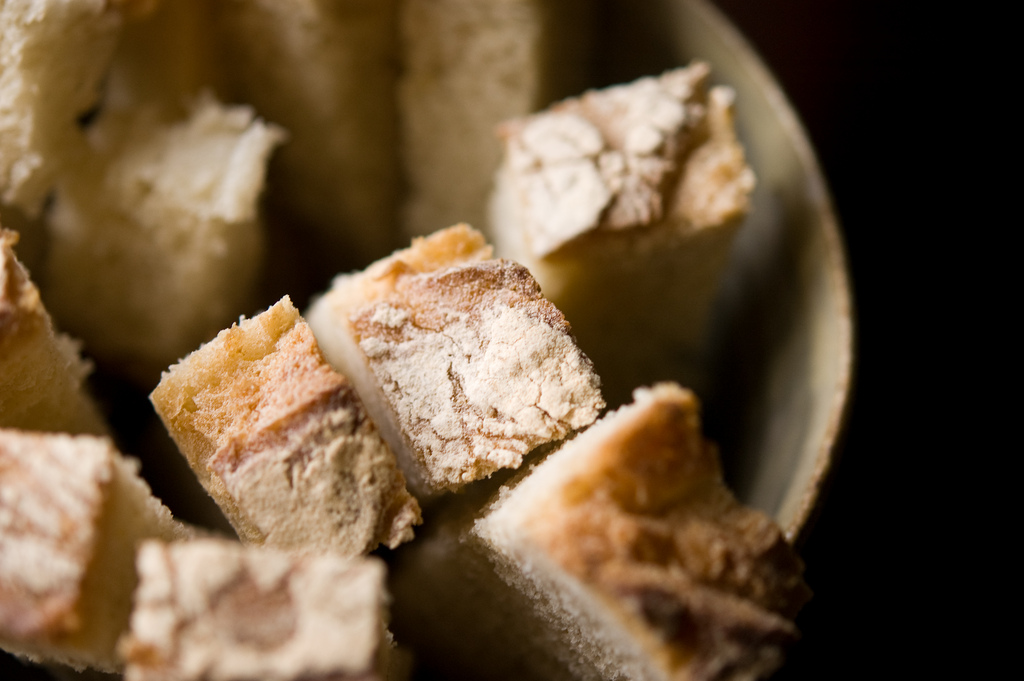slice of bread: (464, 396, 836, 675), (328, 237, 619, 484), (148, 313, 415, 558), (483, 84, 759, 321)
